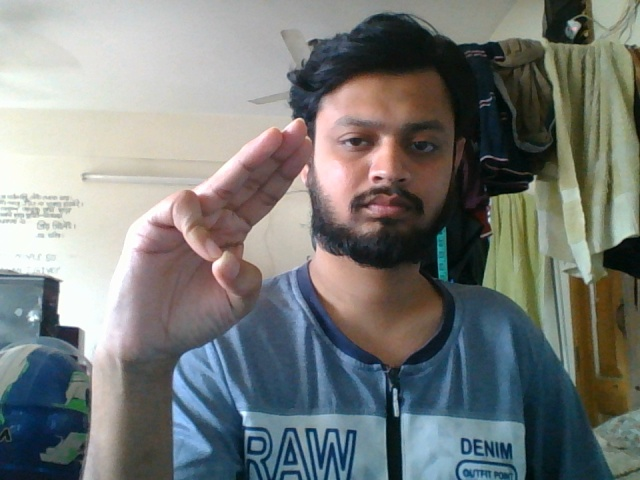ma: (108, 112, 316, 420)
